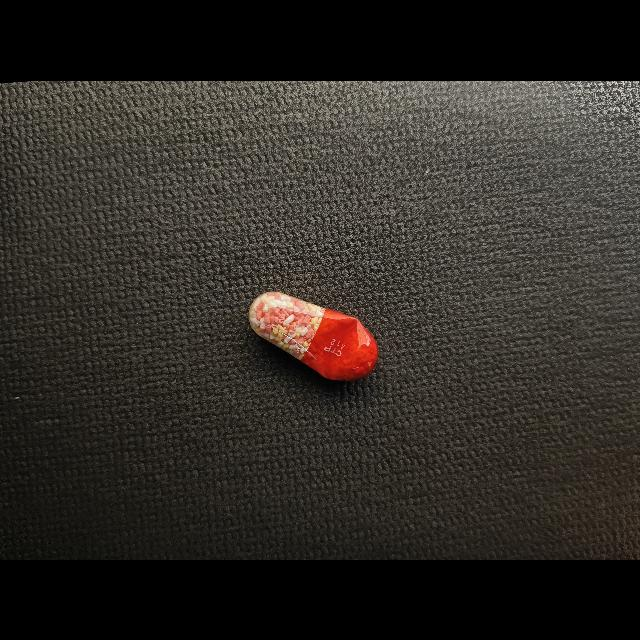Defective Capsule: (249, 291, 378, 380)
